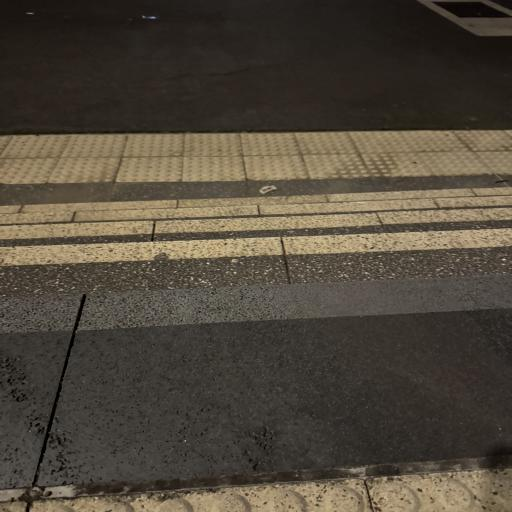stairs: (0, 195, 512, 309)
